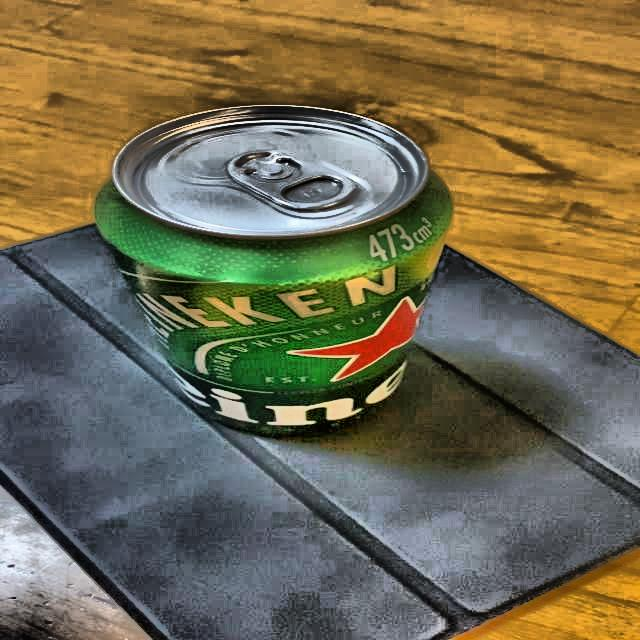can: (95, 103, 457, 434)
